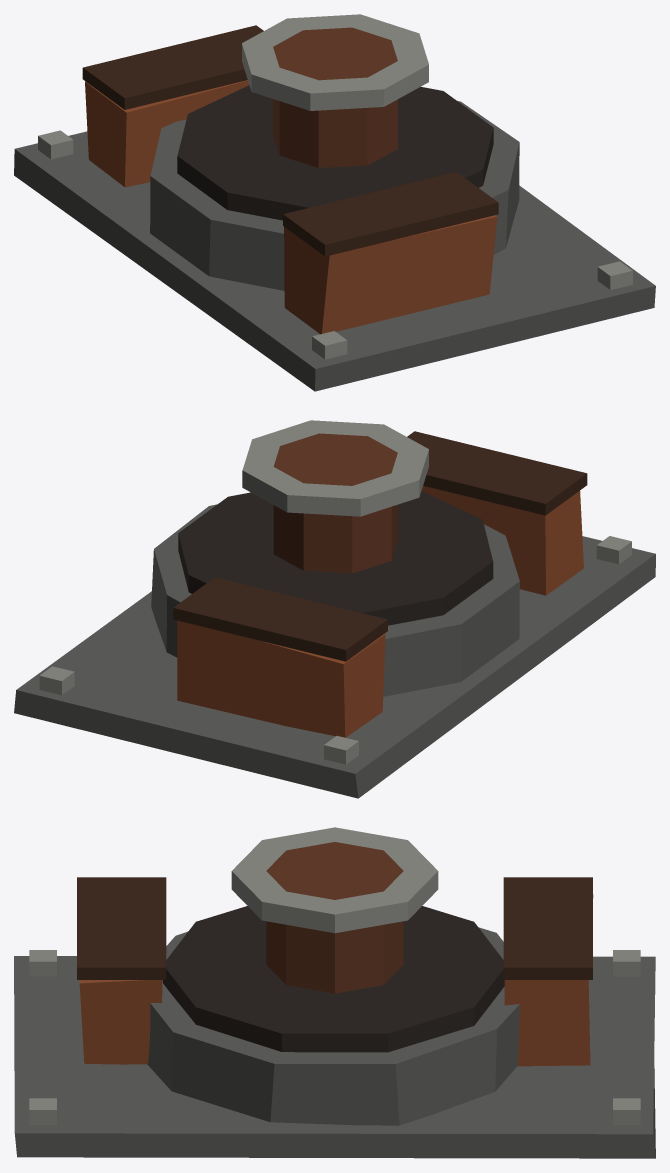
Rendered from wmount_ring_wide.glb.
3 renders of one model, top to bottom at view 1: azimuth 30°, elevation 25°; view 2: azimuth 150°, elevation 25°; view 3: azimuth 270°, elevation 25°, orthographic. The views are drawn at different scales.
Visible parts, largest first — view 1: wmount_ring_wide; view 2: wmount_ring_wide; view 3: wmount_ring_wide.
Boxes of the visible parts, x1,y1,x2,y2 form: wmount_ring_wide: (14, 14, 655, 391); wmount_ring_wide: (14, 420, 655, 798); wmount_ring_wide: (14, 827, 655, 1158).
Size of the model in its own units: 0.6154 by 0.3226 by 0.933.
